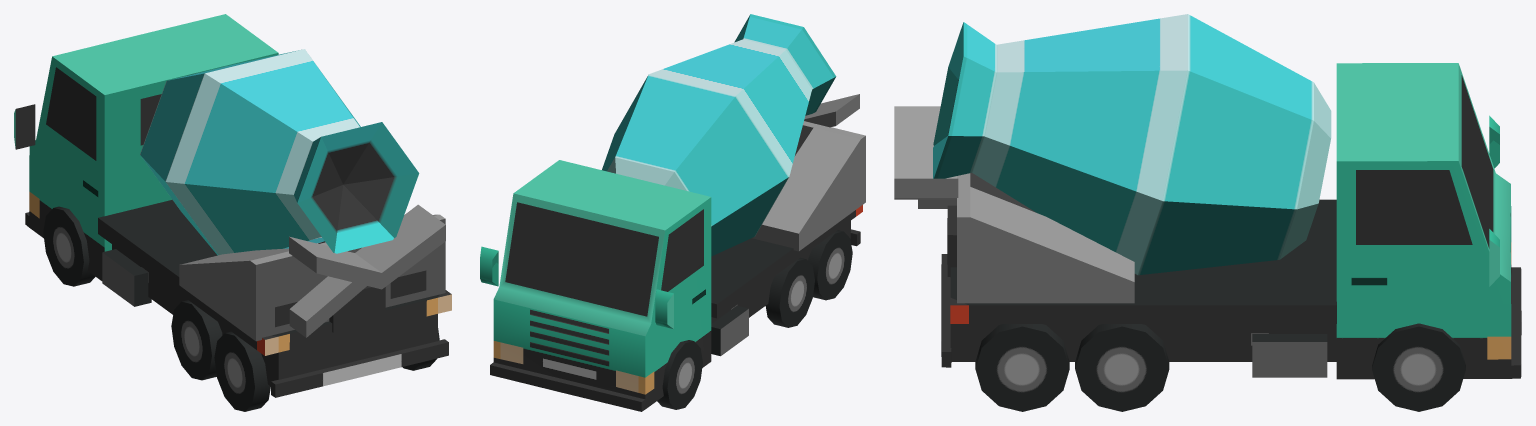
The model's file is Vehicle_MixerTruck2.FBX.
The picture shows the model from 3 angles, left to right: view 1: azimuth 30°, elevation 25°; view 2: azimuth 150°, elevation 25°; view 3: azimuth 270°, elevation 25°; orthographic projection. The views are drawn at different scales.
Parts seen in each view (by area): view 1: Vehicle_MixerTruck_D, Barrel; view 2: Vehicle_MixerTruck_D, Barrel; view 3: Vehicle_MixerTruck_D, Barrel.
Boxes of the visible parts, x1,y1,x2,y2 form: Vehicle_MixerTruck_D: (14, 14, 451, 411); Barrel: (140, 49, 419, 255); Vehicle_MixerTruck_D: (480, 94, 865, 411); Barrel: (602, 14, 836, 256); Vehicle_MixerTruck_D: (894, 63, 1521, 411); Barrel: (933, 14, 1331, 275).
Bounding box in the file's own units: 3.44 × 7.34 × 4.14.
1 material, 1 textured.
